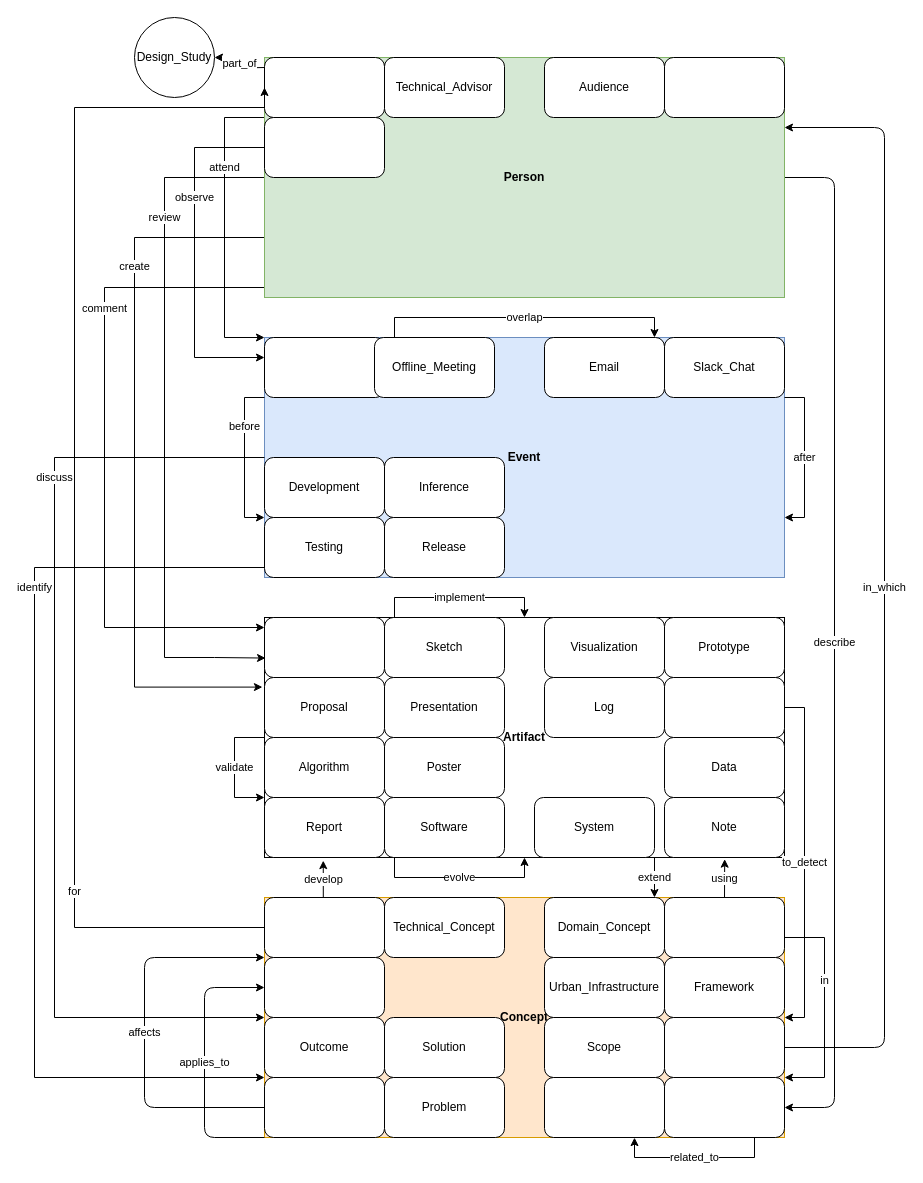
This 923x1183 diagram has some shape labels left out. Here are the shapes that lost their labels. From the top down, the centre of each, then its label:
At point (324, 87): "Computer_Expert".
At point (724, 87): "User".
At point (324, 147): "Domain_Expert".
At point (324, 367): "Online_Meeting".
At point (324, 647): "Notebook".
At point (724, 707): "Tool".
At point (324, 927): "Weather_Event".
At point (724, 927): "Task".
At point (324, 987): "Design_Concept".
At point (724, 1047): "Timeline".
At point (324, 1107): "State".
At point (604, 1107): "Location".
At point (724, 1107): "Priority".
